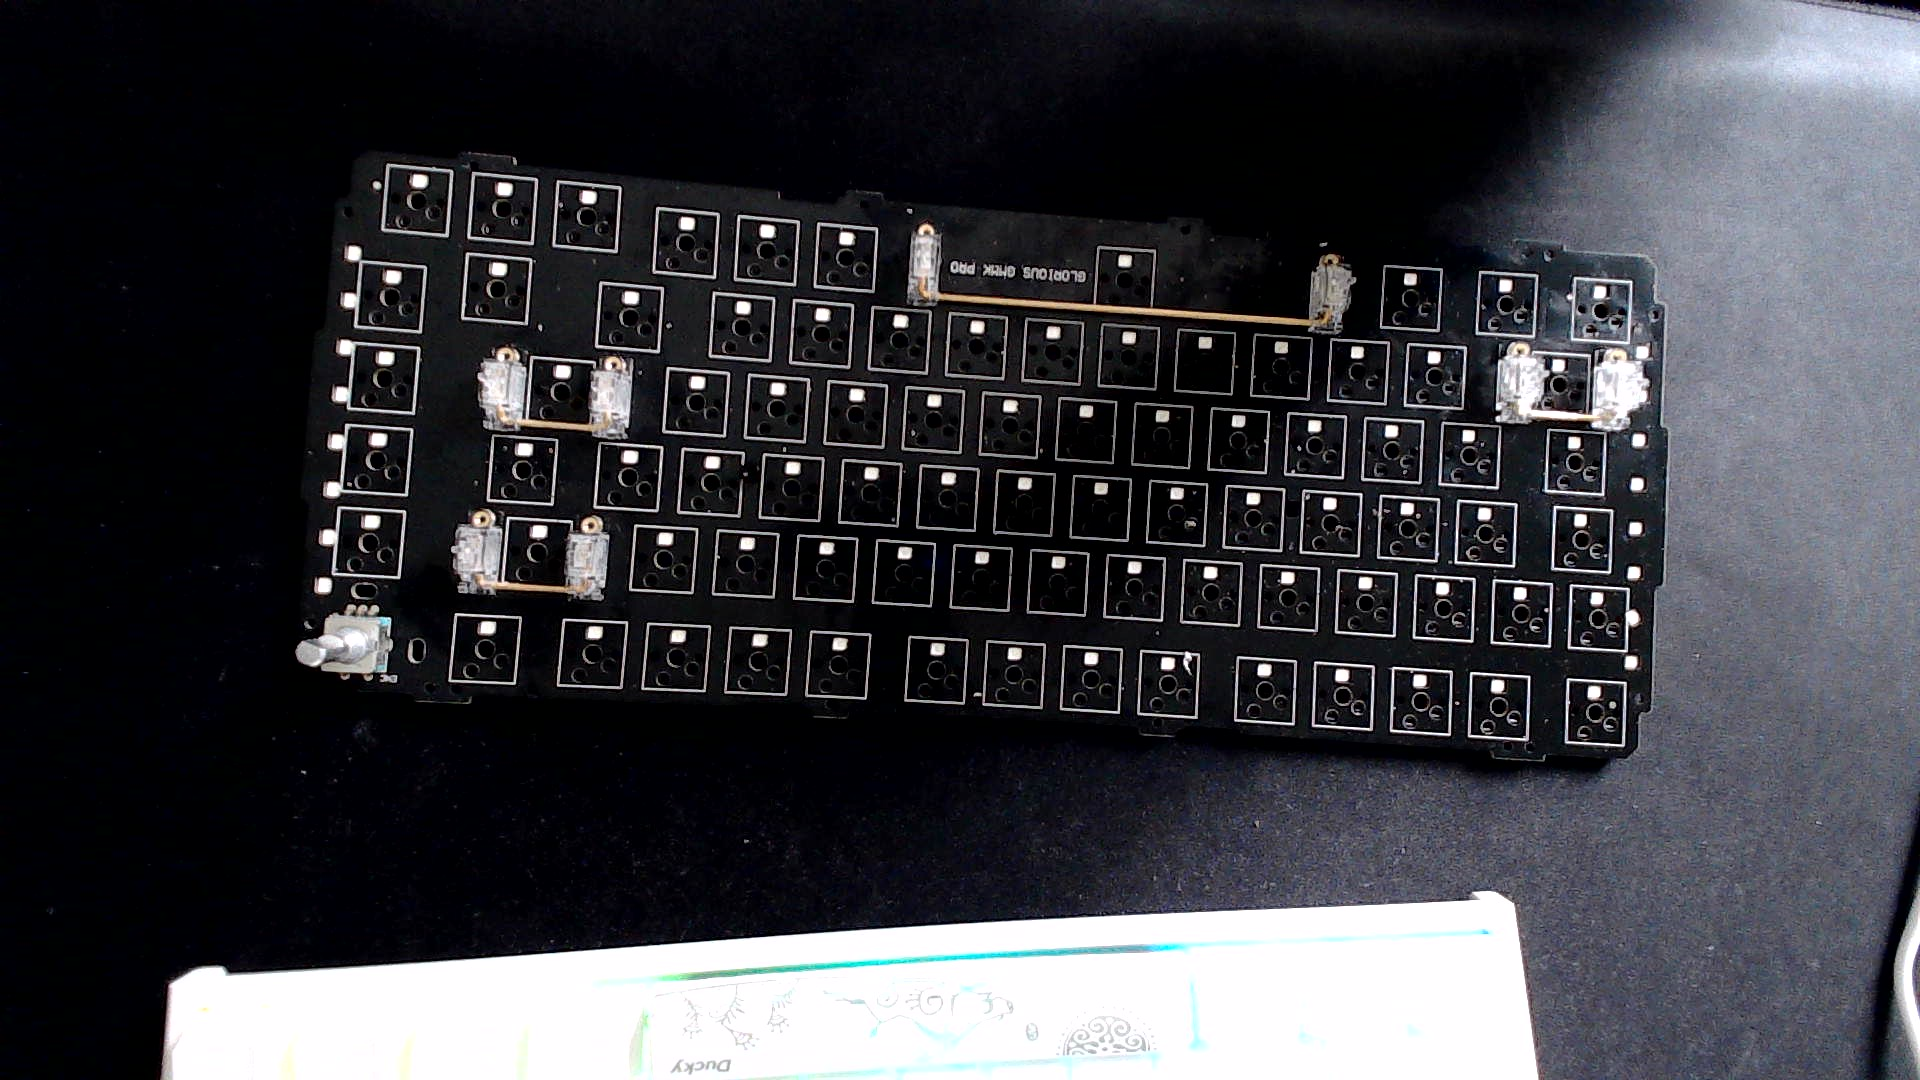pcb: (225, 103, 1725, 843)
